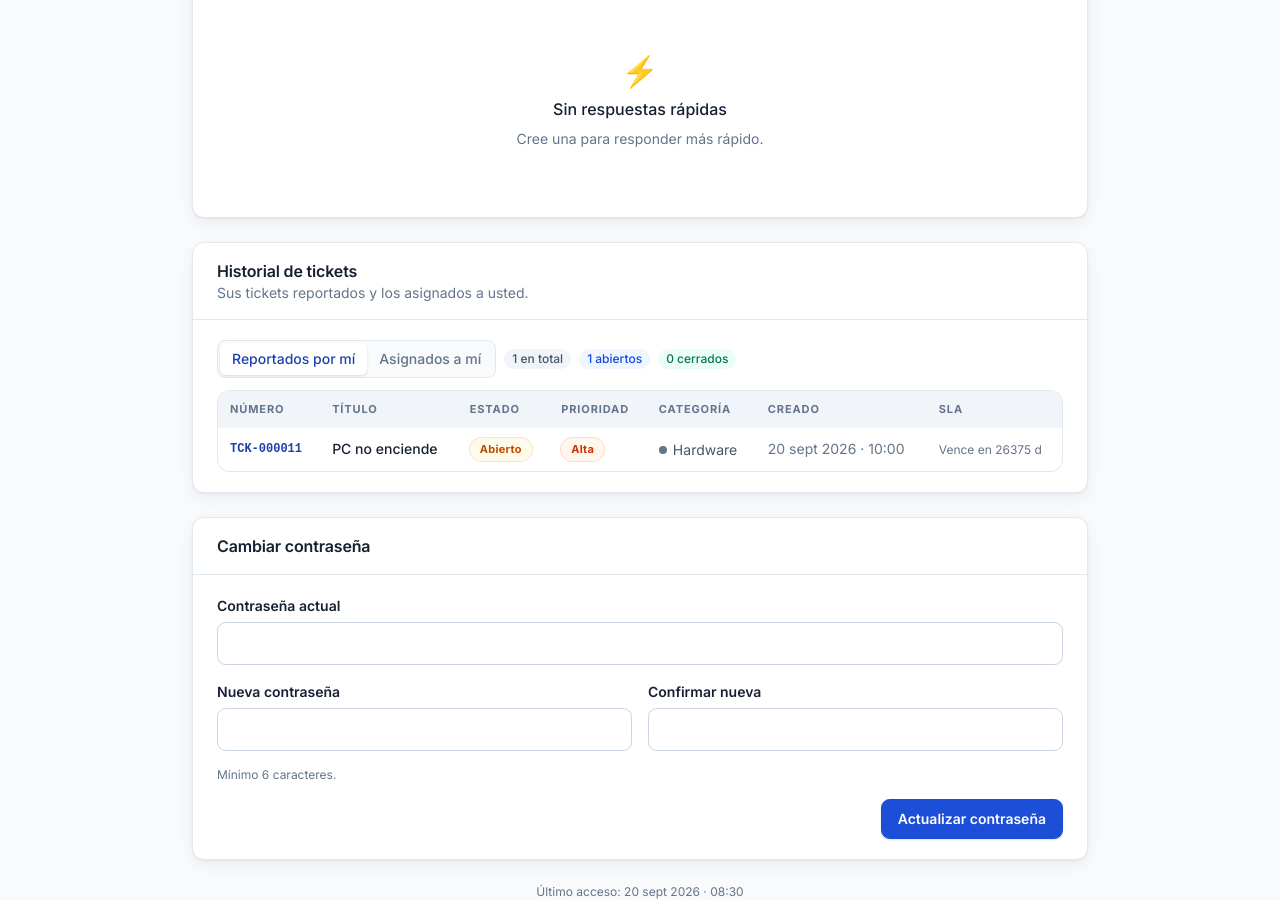
Test case: Profile › rechaza el envío si las contraseñas nuevas no coinciden
(page scrolled)
Expected: the heading "Cambiar contraseña" is shown, [217,536,370,556]
Type "vieja123" into the password field labelled "Contraseña actual" at (640, 643), box [217,622,1063,665]
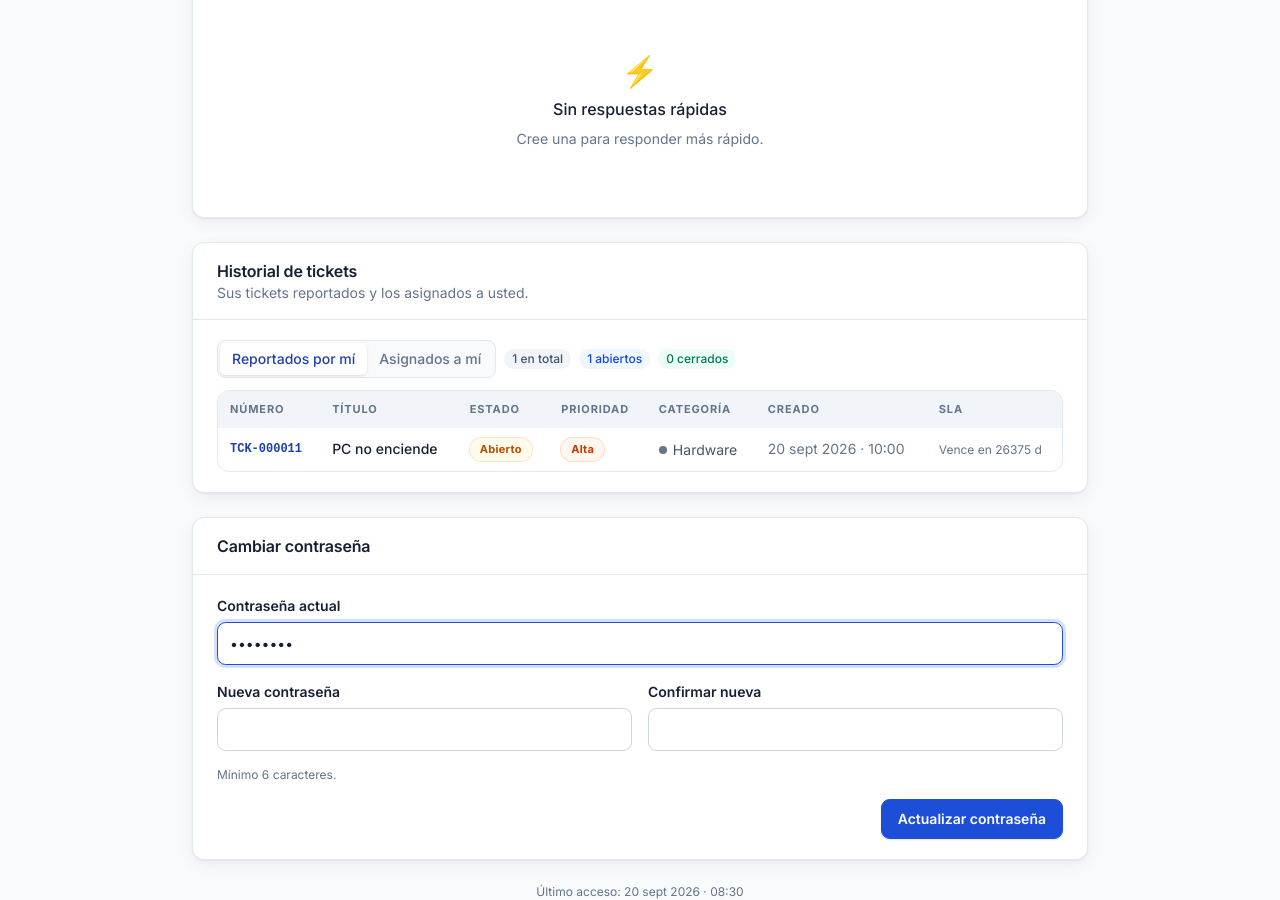
Type "NuevaClave123!" into the password field labelled "Nueva contraseña" at (424, 729), box [217,708,632,751]
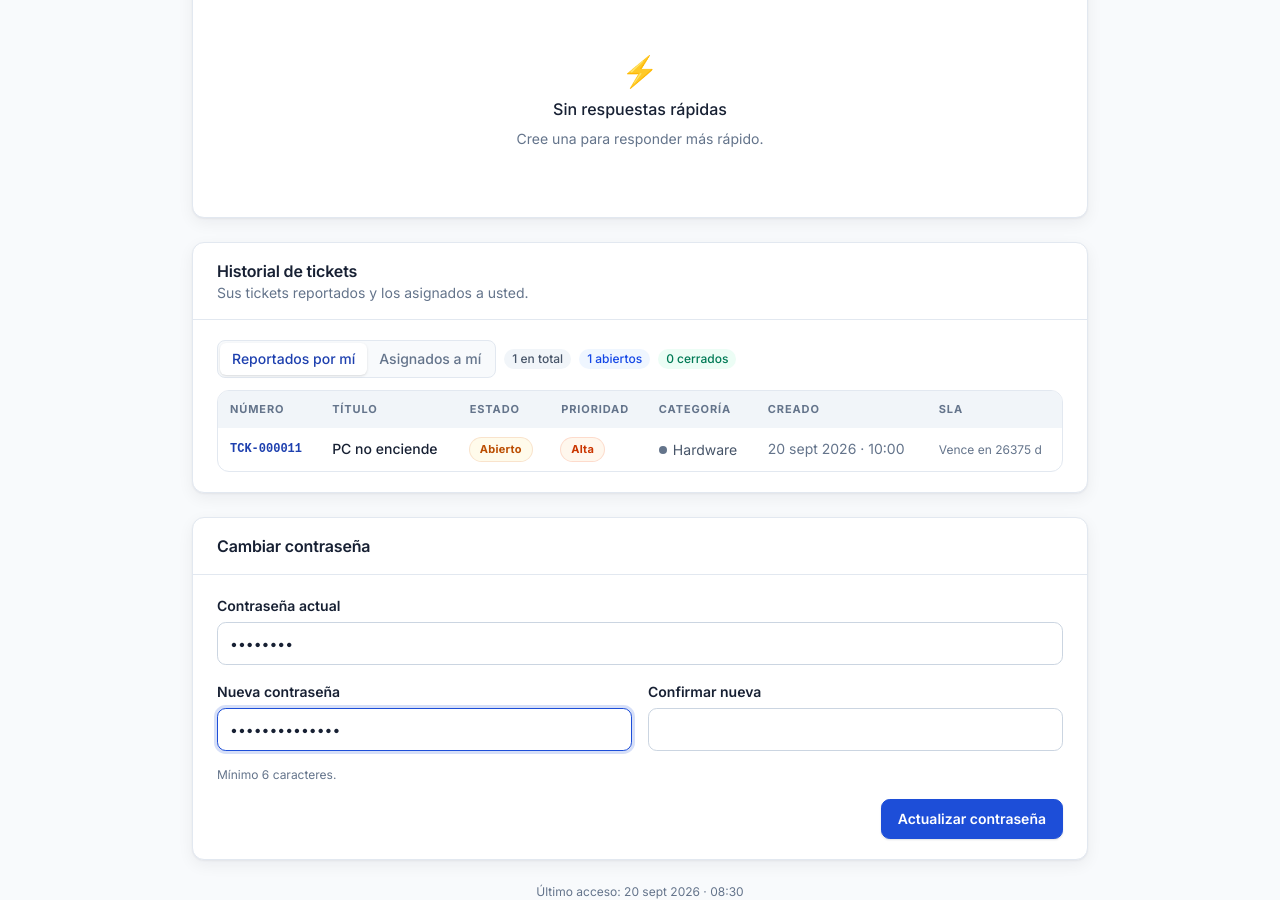
Type "otra123" into the password field labelled "Confirmar nueva" at (856, 729), box [648,708,1063,751]
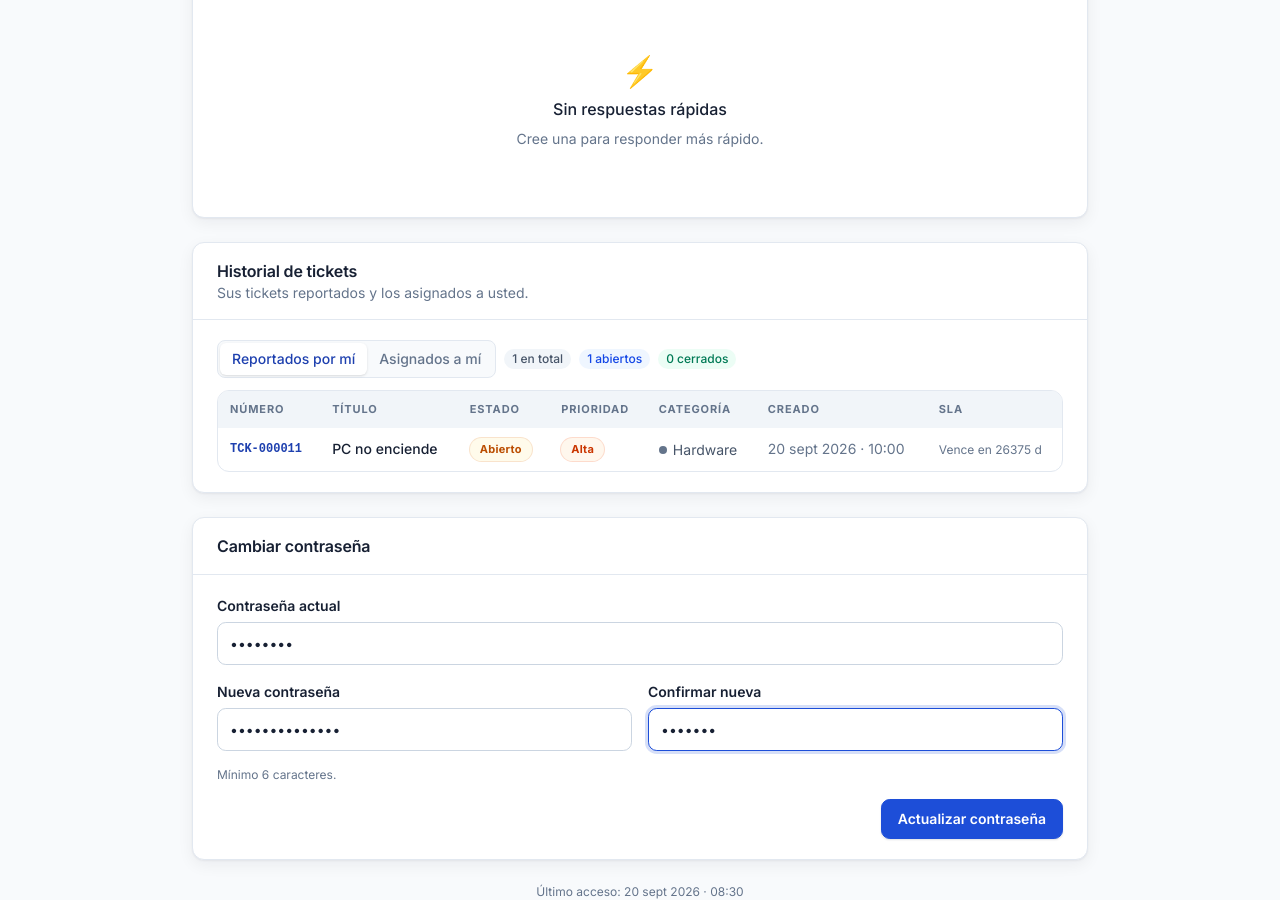
Click the button "Actualizar contraseña" at (972, 819), box [881,799,1063,839]
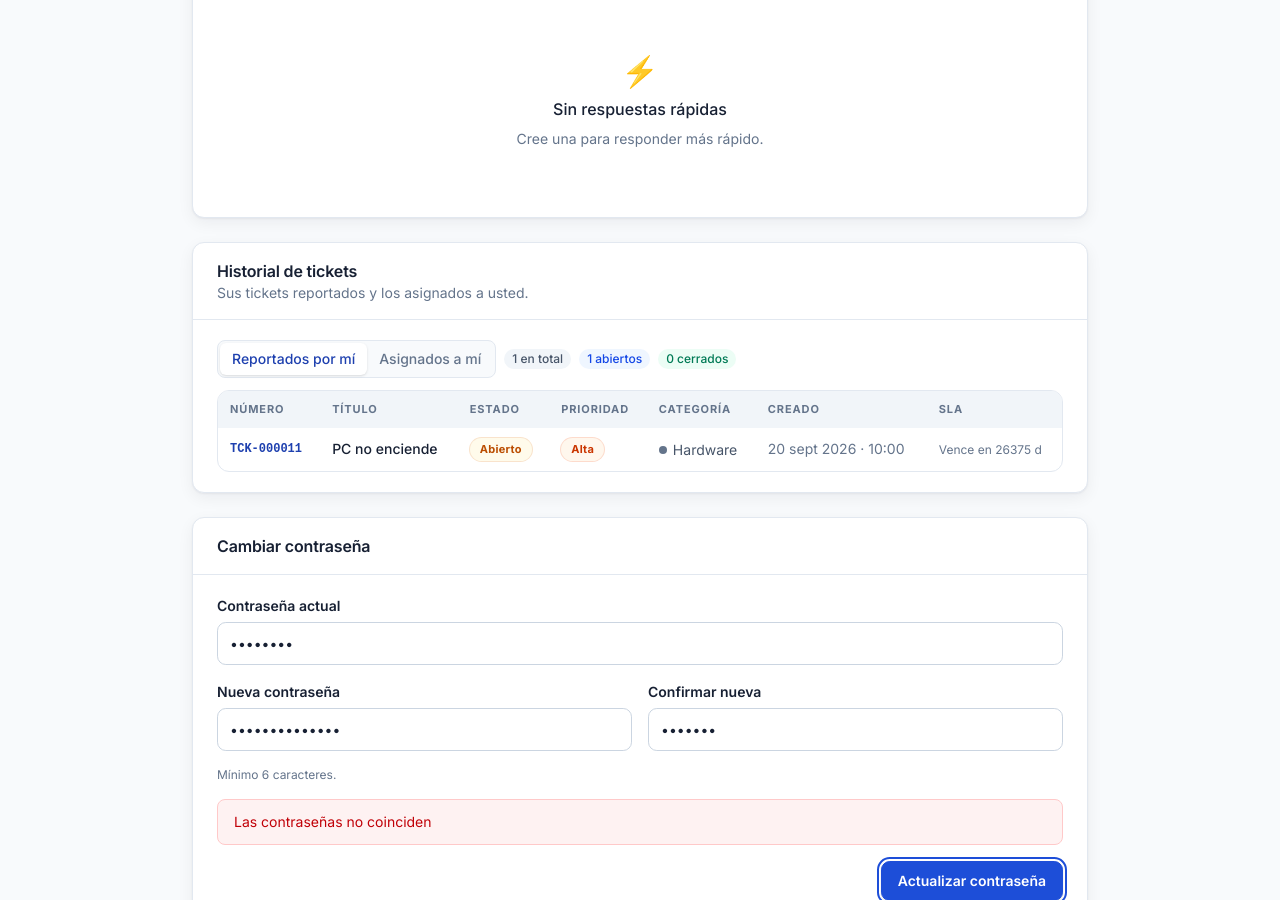
Now the message "Las contraseñas no coinciden" is shown, box [217,799,1063,845]
